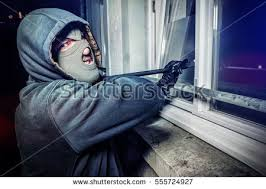crowbar: (98, 59, 194, 85)
